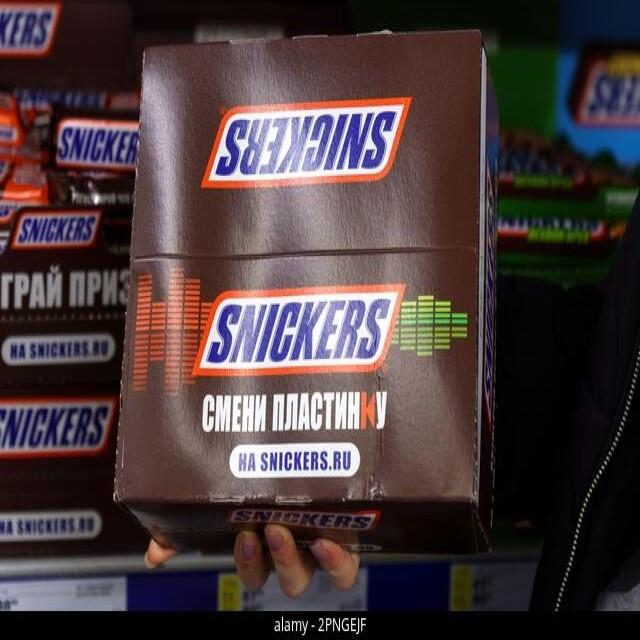snickers_chocolate: (193, 104, 497, 218), (207, 290, 445, 402), (0, 202, 105, 260), (0, 0, 93, 61), (0, 410, 121, 445), (37, 115, 138, 148)
